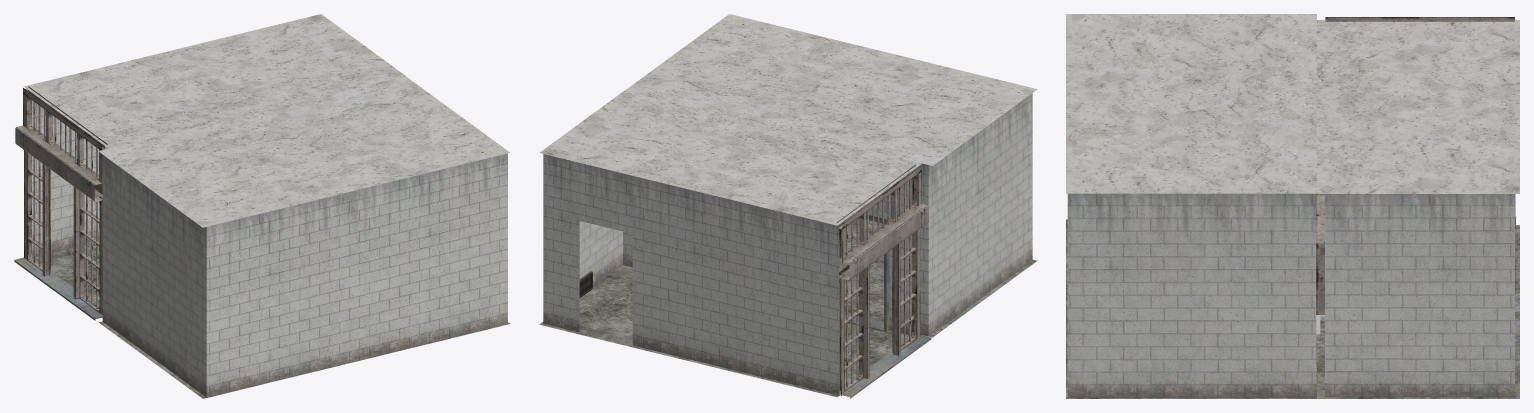
3 views of the same model, side by side, from view 1: azimuth 30°, elevation 25°; view 2: azimuth 150°, elevation 25°; view 3: azimuth 270°, elevation 25° (orthographic). The views are drawn at different scales.
Parts seen in each view (by area): view 1: LOD_1_Group_0_Sub_3__st3_policeUndergroundWall04, LOD_1_Group_0_Sub_1__st3_policeUndergroundCeiling05, LOD_1_Group_0_Sub_5__st3_policeUndergroundPrisonjail01__cc12, LOD_1_Group_0_Sub_2__st3_policeUndergroundFloor06, LOD_1_Group_0_Sub_4__st3_policeUndergroundDoor01; view 2: LOD_1_Group_0_Sub_3__st3_policeUndergroundWall04, LOD_1_Group_0_Sub_1__st3_policeUndergroundCeiling05, LOD_1_Group_0_Sub_5__st3_policeUndergroundPrisonjail01__cc12, LOD_1_Group_0_Sub_2__st3_policeUndergroundFloor06, LOD_1_Group_0_Sub_4__st3_policeUndergroundDoor01; view 3: LOD_1_Group_0_Sub_3__st3_policeUndergroundWall04, LOD_1_Group_0_Sub_1__st3_policeUndergroundCeiling05, LOD_1_Group_0_Sub_2__st3_policeUndergroundFloor06, LOD_1_Group_0_Sub_5__st3_policeUndergroundPrisonjail01__cc12.
Boxes of the visible parts, left/top/right/bottom form: LOD_1_Group_0_Sub_3__st3_policeUndergroundWall04: left=25, top=88, right=507, bottom=397; LOD_1_Group_0_Sub_1__st3_policeUndergroundCeiling05: left=24, top=14, right=509, bottom=227; LOD_1_Group_0_Sub_5__st3_policeUndergroundPrisonjail01__cc12: left=15, top=86, right=107, bottom=314; LOD_1_Group_0_Sub_2__st3_policeUndergroundFloor06: left=32, top=242, right=510, bottom=398; LOD_1_Group_0_Sub_4__st3_policeUndergroundDoor01: left=14, top=257, right=102, bottom=320; LOD_1_Group_0_Sub_3__st3_policeUndergroundWall04: left=543, top=93, right=1032, bottom=395; LOD_1_Group_0_Sub_1__st3_policeUndergroundCeiling05: left=539, top=14, right=1037, bottom=225; LOD_1_Group_0_Sub_5__st3_policeUndergroundPrisonjail01__cc12: left=836, top=164, right=928, bottom=395; LOD_1_Group_0_Sub_2__st3_policeUndergroundFloor06: left=539, top=218, right=1036, bottom=397; LOD_1_Group_0_Sub_4__st3_policeUndergroundDoor01: left=834, top=212, right=931, bottom=398; LOD_1_Group_0_Sub_3__st3_policeUndergroundWall04: left=1067, top=193, right=1514, bottom=397; LOD_1_Group_0_Sub_1__st3_policeUndergroundCeiling05: left=1066, top=14, right=1519, bottom=193; LOD_1_Group_0_Sub_2__st3_policeUndergroundFloor06: left=1066, top=219, right=1519, bottom=398; LOD_1_Group_0_Sub_5__st3_policeUndergroundPrisonjail01__cc12: left=1316, top=17, right=1515, bottom=314.
Bounding box in the file's own units: 6.18 × 3.3 × 6.57.
